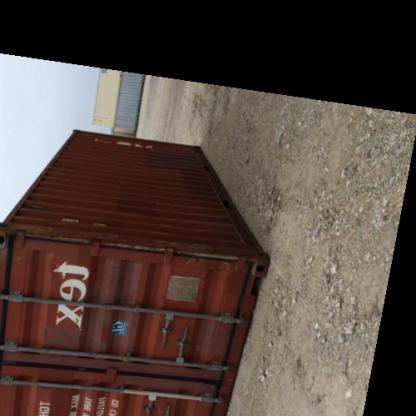Damage: (196, 312, 237, 360), (180, 251, 202, 271), (214, 256, 236, 276)
